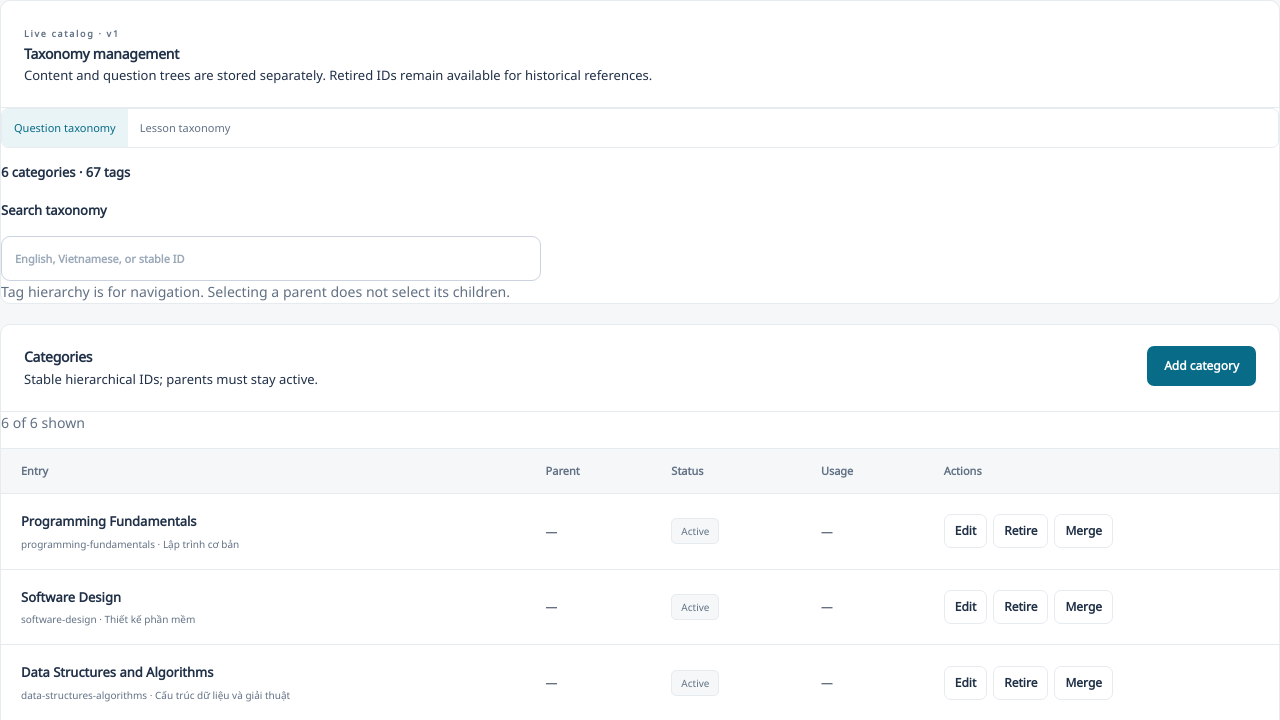
Taxonomy management › does not display the previous scope after the next scope fails to load
Expected: the text "6 categories · 67 tags" is shown, x1=1 y1=163 x2=130 y2=181
Click the button "Lesson taxonomy" at (185,128), box x1=128 y1=109 x2=242 y2=147
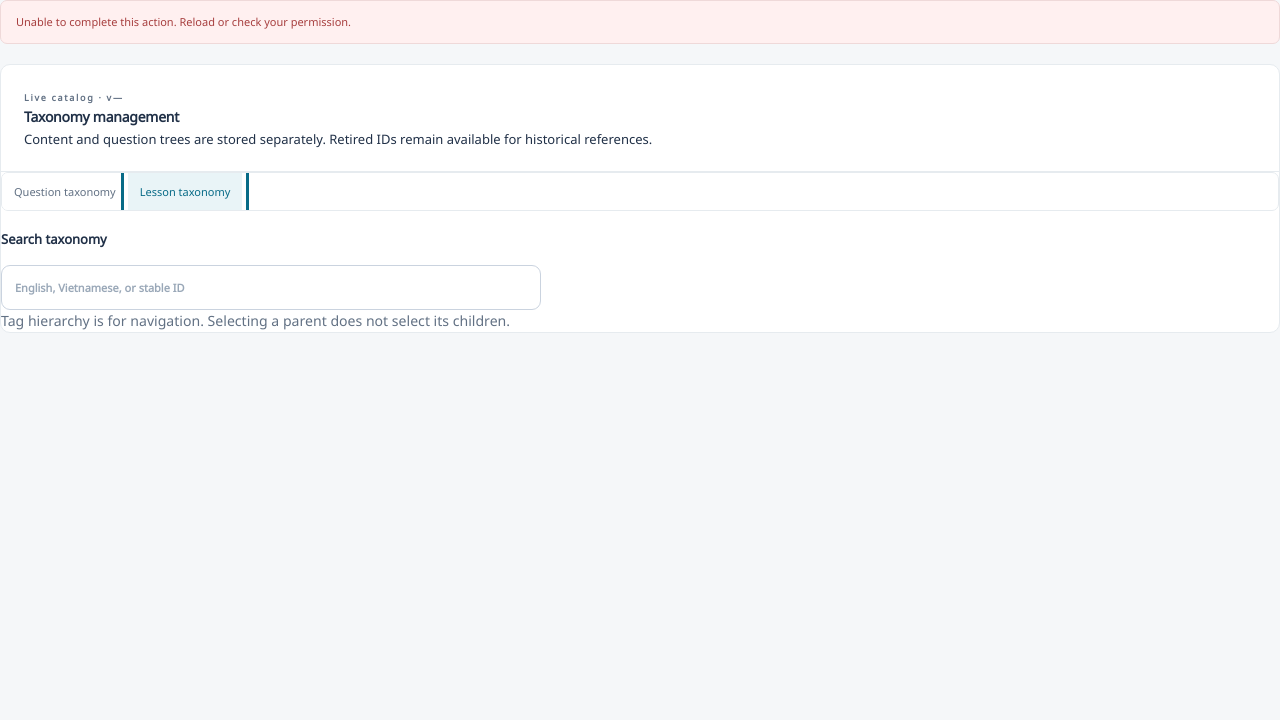
Now the message "Unable to complete this action. Reload or check your permission." is shown, box x1=0 y1=0 x2=1279 y2=44
